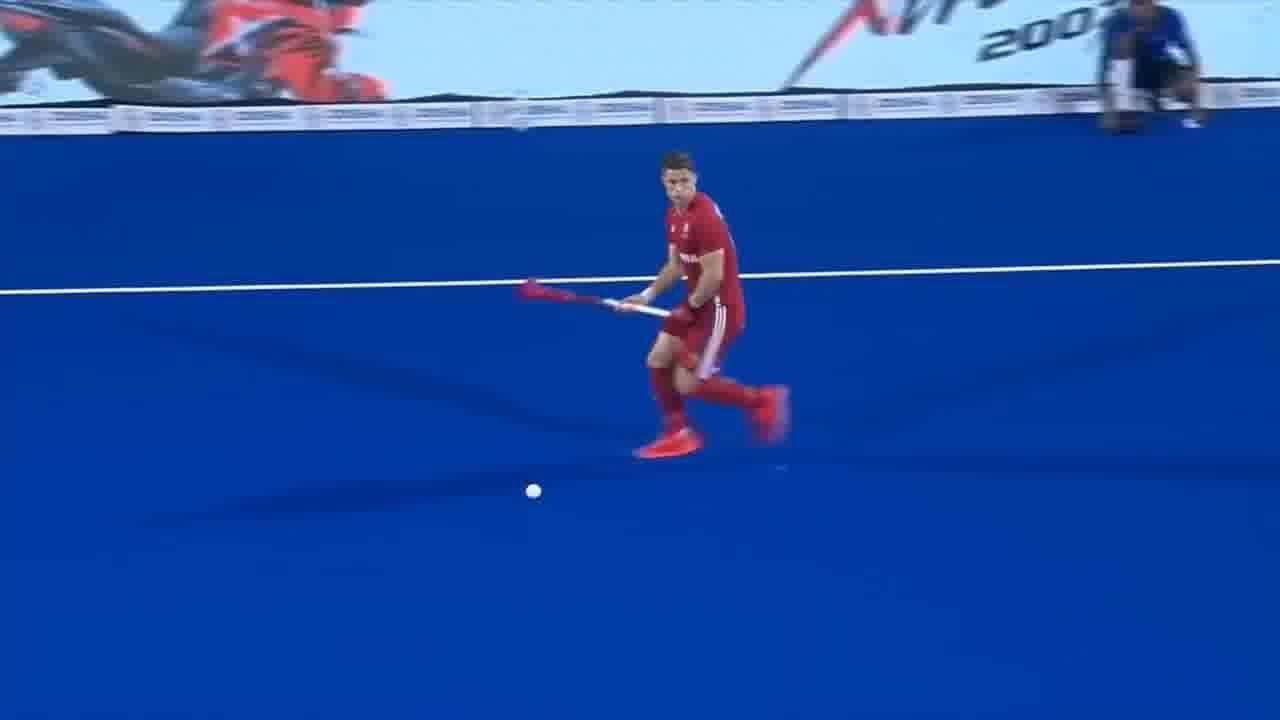ball: (522, 477, 556, 506)
